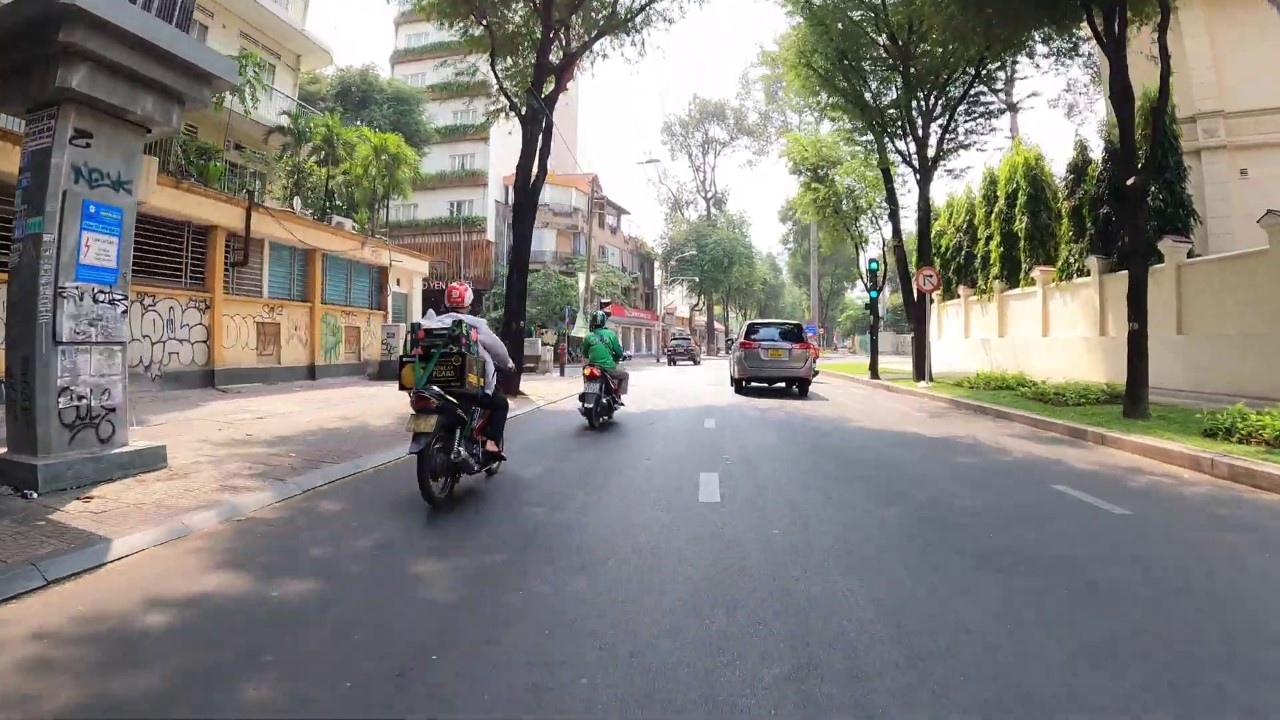cam_re_phai: (915, 266, 940, 293)
